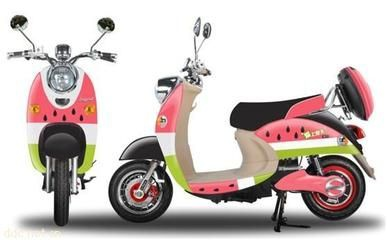non-vehicle: (107, 12, 374, 224), (6, 12, 120, 227)
